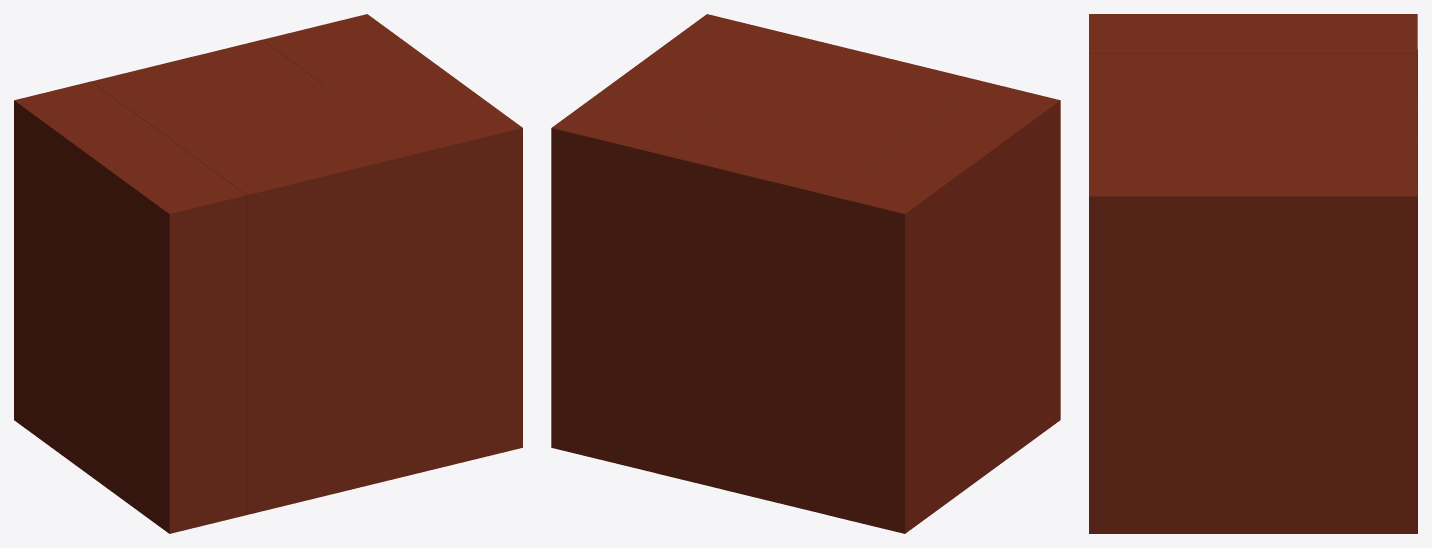
Rendered from Serenia Zenata Orbiting Mockup Units Boxes.glb.
3 views of the same model, side by side, from view 1: azimuth 30°, elevation 25°; view 2: azimuth 150°, elevation 25°; view 3: azimuth 270°, elevation 25° (orthographic). The views are drawn at different scales.
Parts seen in each view (by area): view 1: A012, A013, A014, A034, A020, A026, A033, A027, A019, A009, A035, A021 (+7 smaller); view 2: A009, A012, A004, A010, A013, A024, A017, A031, A014, A003, A032, A025 (+10 smaller); view 3: A012, A004, A026, A019, A033, A023, A016, A030, A014, A013, A010, A009 (+1 smaller).
Part boxes in pixels (x1,y1,x2,y2): A012: (259, 59, 522, 250); A013: (76, 127, 246, 294); A014: (153, 101, 351, 274); A034: (76, 385, 246, 533); A020: (76, 226, 246, 374); A026: (352, 287, 522, 409); A033: (352, 367, 522, 489); A027: (76, 306, 246, 453); A019: (352, 209, 522, 329); A009: (14, 81, 152, 226); A035: (246, 409, 351, 514); A021: (246, 250, 351, 355); A009: (827, 150, 966, 294); A012: (613, 14, 877, 123); A004: (551, 82, 718, 234); A010: (722, 124, 889, 275); A013: (890, 81, 1060, 249); A024: (827, 328, 966, 454); A017: (827, 249, 966, 374); A031: (827, 409, 966, 533); A014: (785, 55, 982, 149); A003: (656, 108, 784, 250); A032: (722, 410, 827, 514); A025: (722, 329, 827, 435); A012: (1089, 108, 1286, 281); A004: (1286, 142, 1417, 281); A026: (1089, 364, 1286, 449); A019: (1089, 280, 1286, 365); A033: (1089, 448, 1286, 533); A023: (1286, 364, 1417, 449); A016: (1286, 280, 1417, 365); A030: (1286, 448, 1417, 533); A014: (1089, 54, 1286, 107); A013: (1089, 14, 1286, 53); A010: (1286, 54, 1417, 137); A009: (1286, 14, 1417, 101).
Size of the model in its own units: 13.7 by 11.84 by 10.44.
